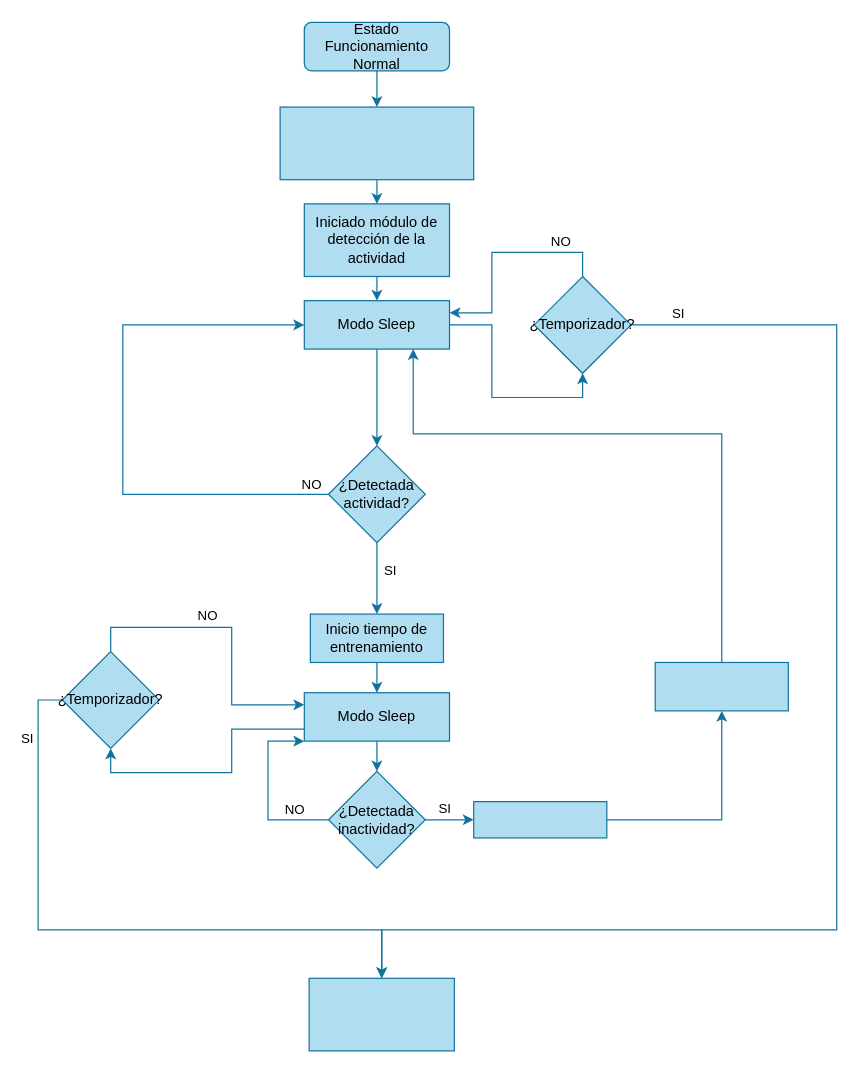
The diagram is 868 pixels wide and 1072 high, and some of its shapes have lost their labels. Each missing label, with the centre of its shape:
"Fin tiempo de entrenamiento" goes at pixel 540 819.
"Inicio de recepción de datos de los nodos" goes at pixel 381 1014.
"Inicio del temporizador (Tiempo establecido en la configuración)" goes at pixel 376 143.
"Registro del dato" goes at pixel 721 686.
